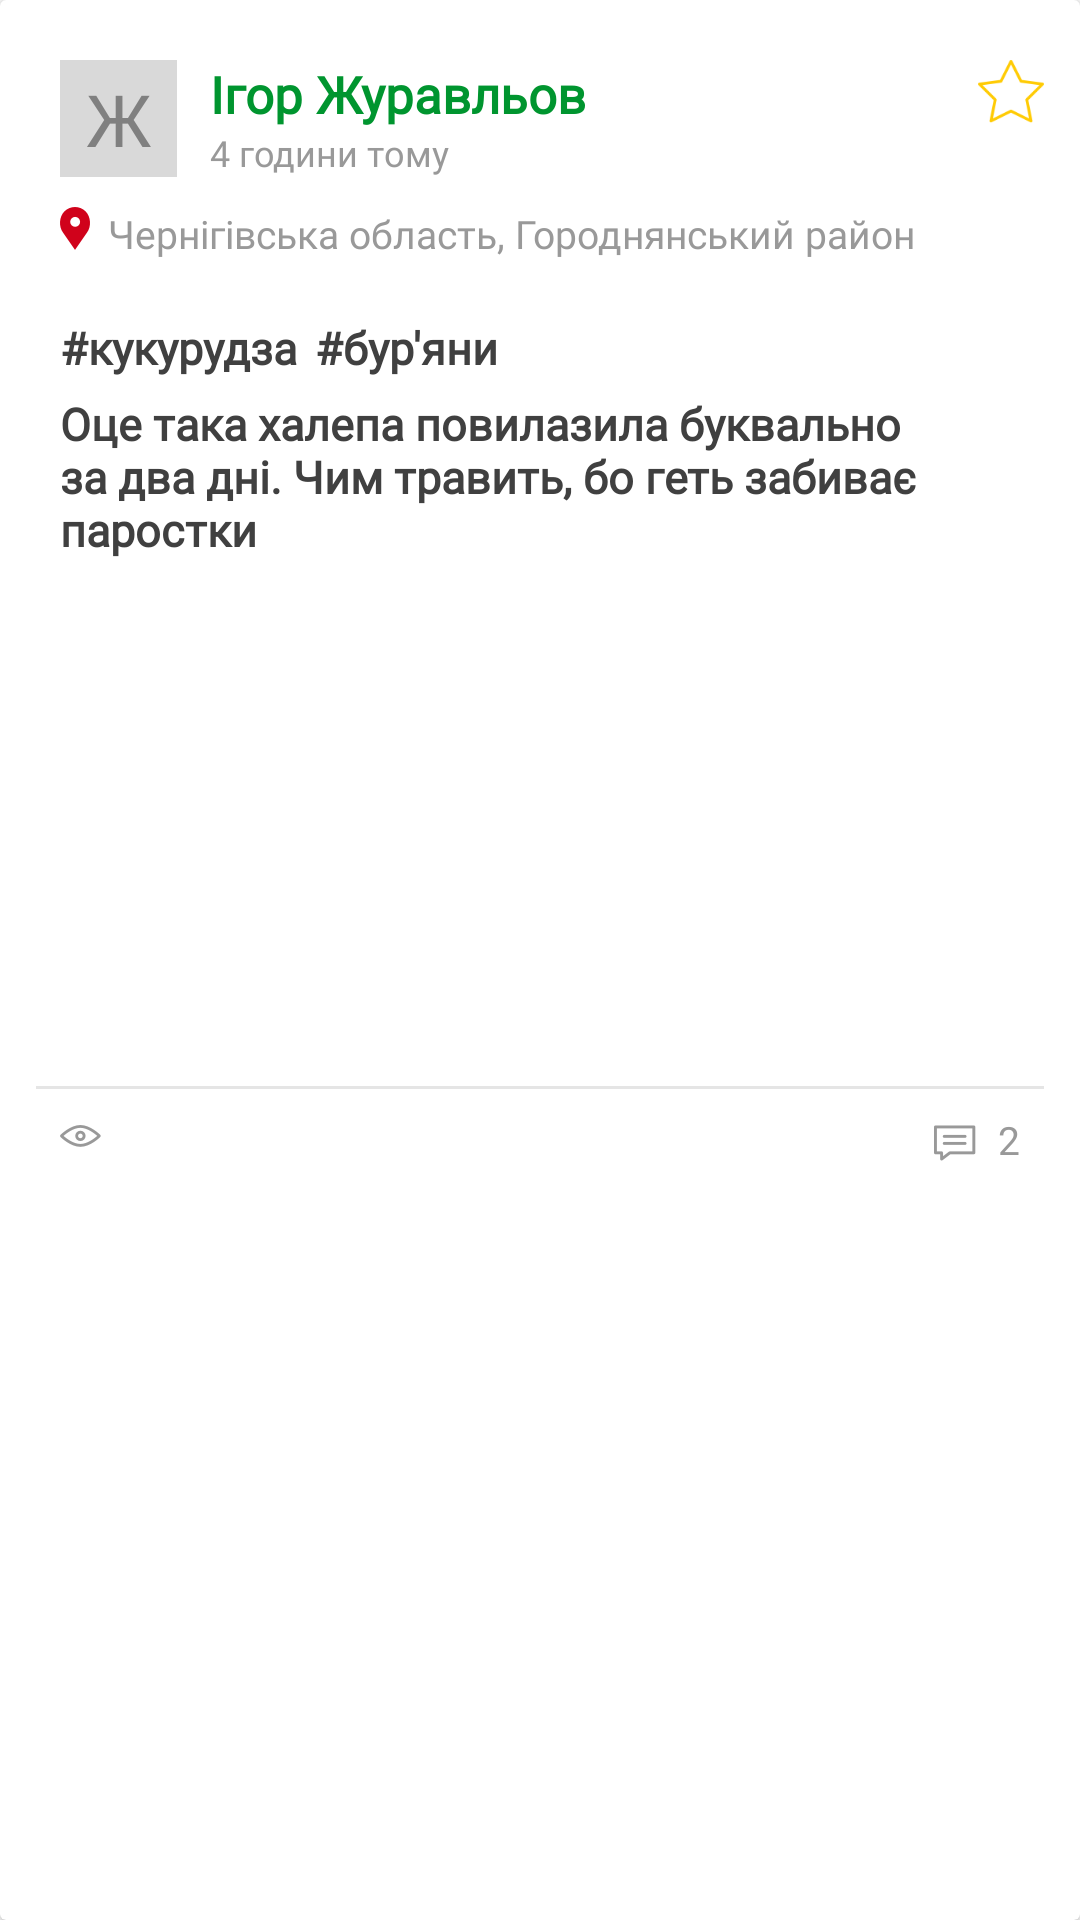

Named icons in this screenshot (1080×1920) and their centers, point (x, y):
newsfeed geotag: point (75, 228)
newsfeed postbar comments: point (955, 1143)
newsfeed postbar views: point (80, 1136)
